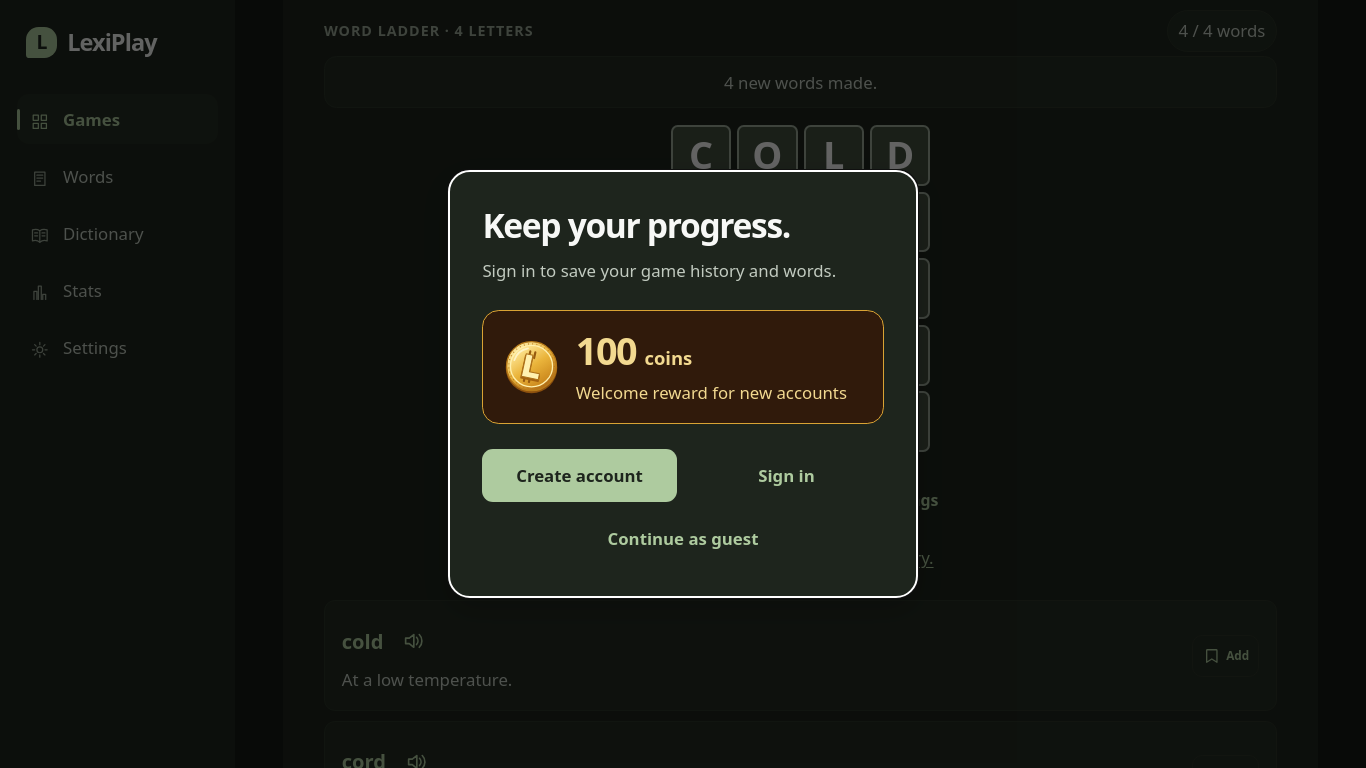
completed games › opens the correct account form from Sign in
The width and height of the screenshot is (1366, 768).
(page scrolled)
Click the button "Sign in": (786, 476) [689,449,884,502]
(page scrolled)
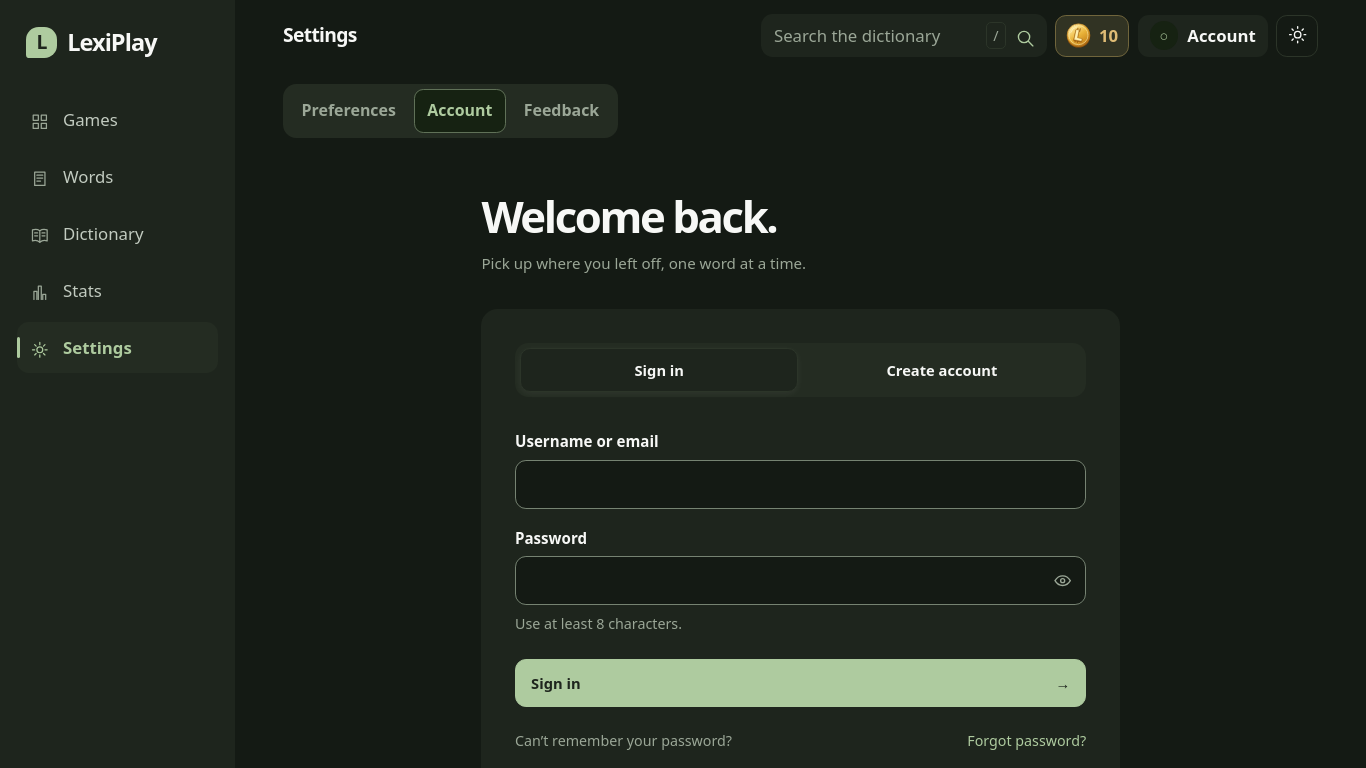
Expected: the dialog is gone
Expected: the field labelled "Username or email" is shown, [515,460,1086,509]
